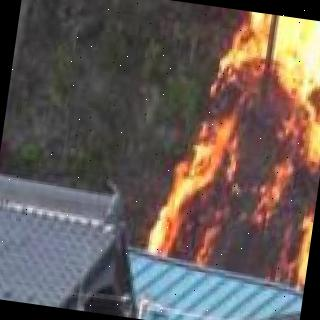fire: (144, 1, 320, 286)
